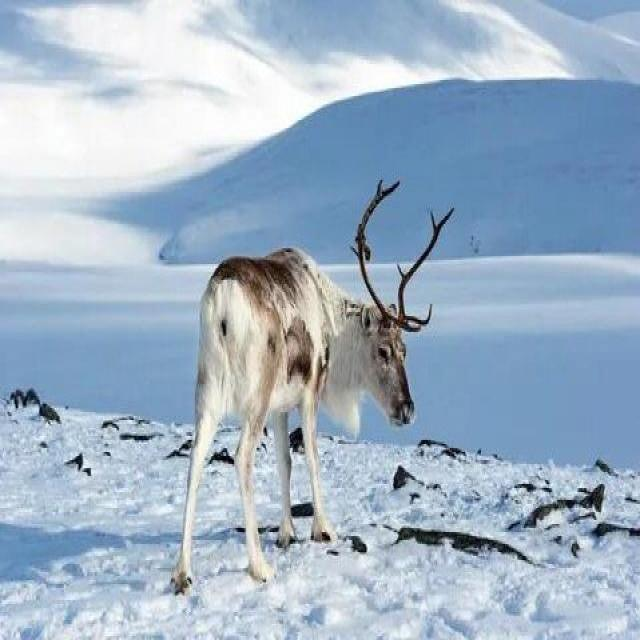deer: (168, 153, 468, 515)
